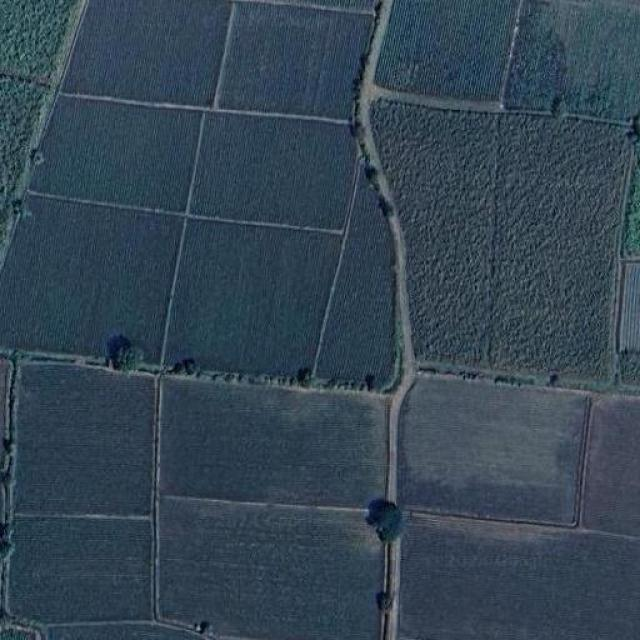land-Sx1C: (491, 115, 620, 377), (159, 498, 382, 640), (374, 102, 492, 363), (399, 515, 640, 640), (161, 379, 386, 506), (0, 198, 181, 354), (165, 224, 339, 382), (400, 379, 585, 524), (16, 364, 152, 514), (0, 0, 77, 253), (33, 98, 198, 209), (194, 115, 355, 226), (64, 1, 229, 104), (220, 4, 369, 117), (316, 176, 395, 383), (10, 520, 150, 621), (378, 0, 518, 101), (549, 0, 640, 119), (581, 398, 640, 536), (504, 0, 564, 109), (48, 622, 208, 640), (622, 140, 640, 256), (619, 259, 640, 352)
